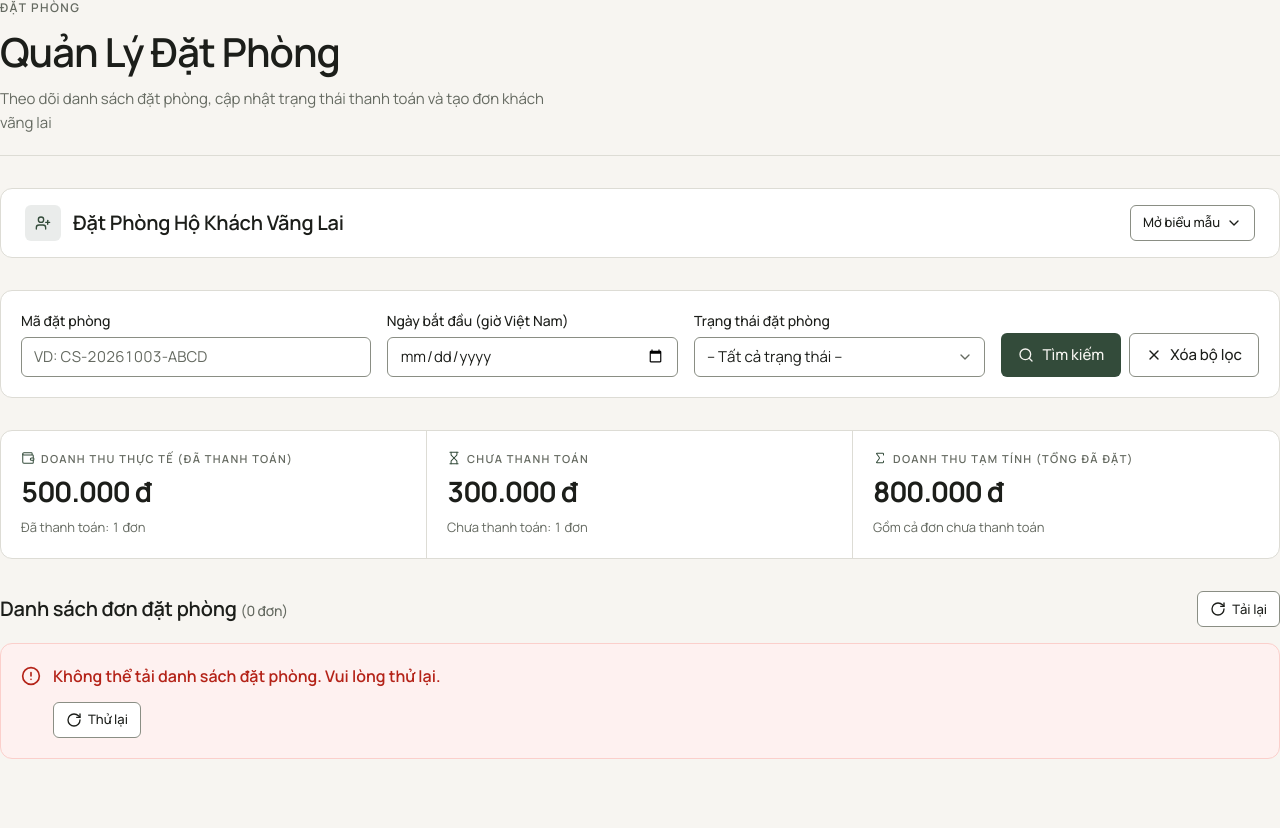
it: AdminBookingsPage - Booking Management & Search › renders error state and retries on button click
Expected: the message "Không thể tải danh sách đặt phòng. Vui lòng thử lại. Thử lại" is shown, [0, 643, 1279, 759]
Click the button "Thử lại": (97, 720) [53, 702, 141, 738]
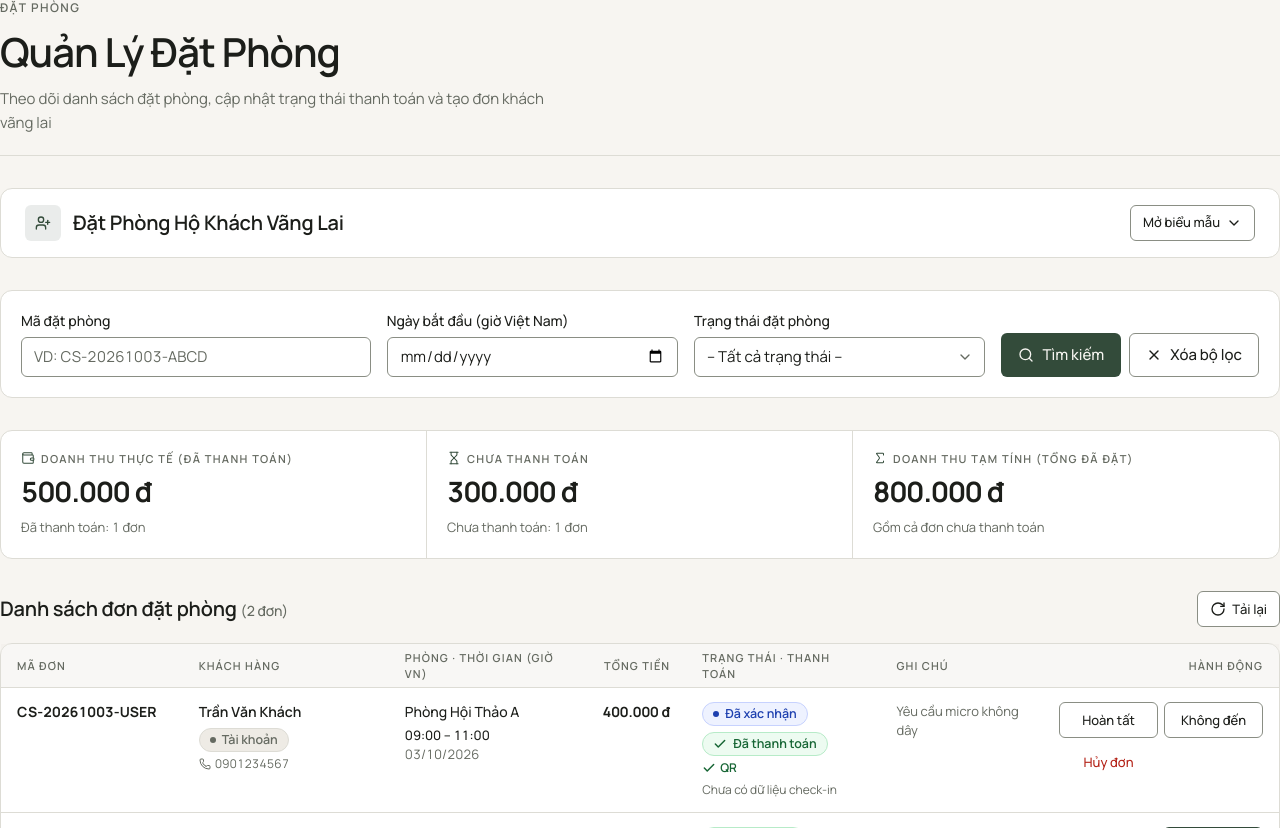
Now the text "CS-20261003-USER" is shown, box [17, 702, 157, 722]
